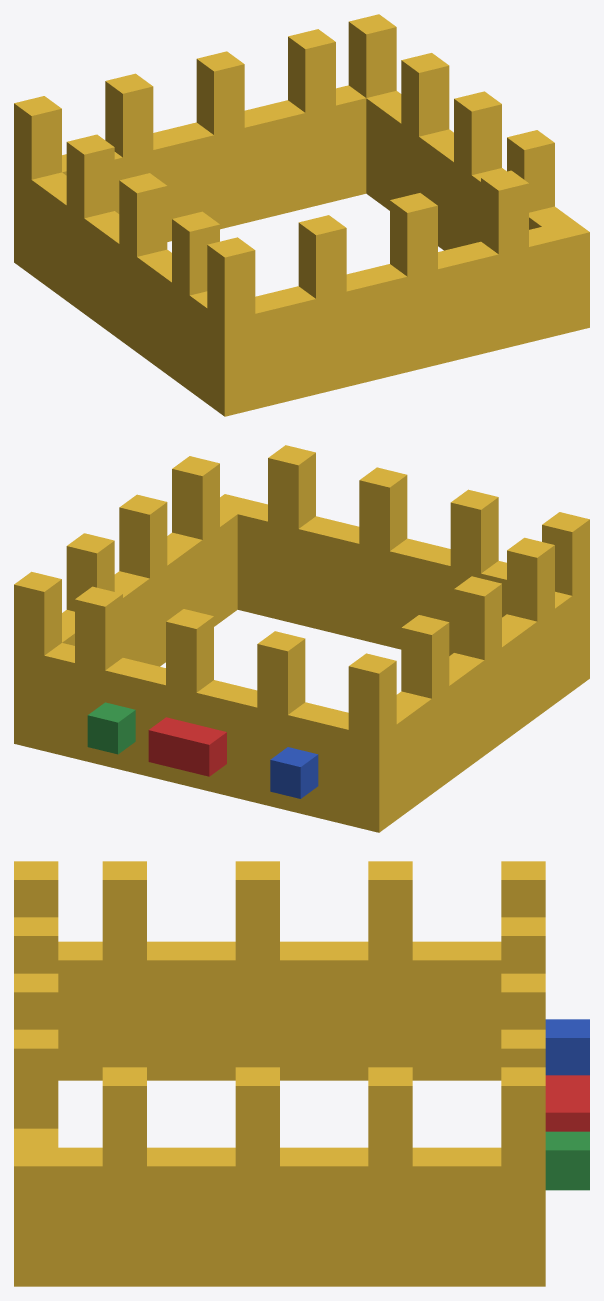
The model's file is crown.glb.
3 renders of one model, top to bottom at view 1: azimuth 30°, elevation 25°; view 2: azimuth 150°, elevation 25°; view 3: azimuth 270°, elevation 25°, orthographic. The views are drawn at different scales.
Visible parts, largest first — view 1: crown; view 2: crown; view 3: crown.
Part boxes in pixels (x1,y1,x2,y2): crown: (14,14,589,416); crown: (14,445,589,832); crown: (14,861,589,1286).
Bounding box in the file's own units: 0.6 × 0.25 × 0.65.
1 material, 1 textured.
